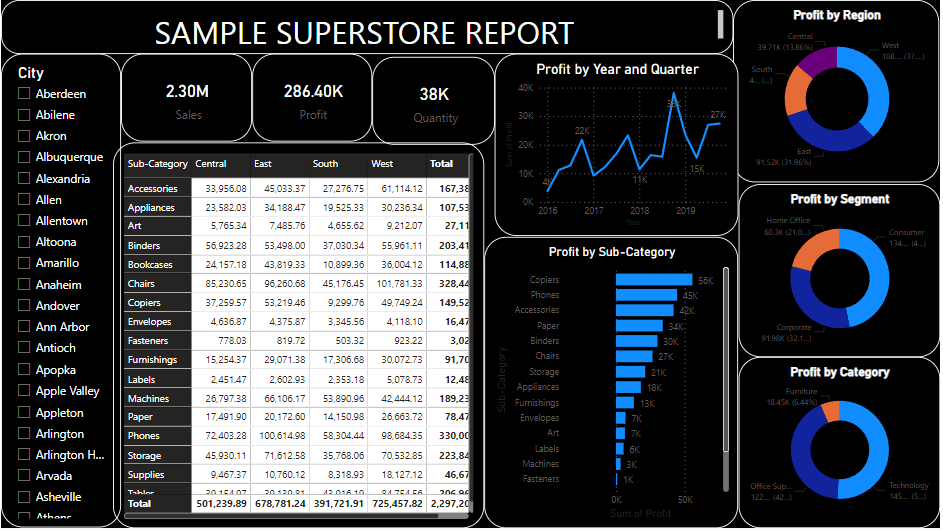

This screenshot's page, from the dashboard's own definition file:
{"tool":"powerbi","page":{"name":"report","canvas":[1280,720],"ordinal":0},"visuals":[{"type":"textbox","box":[0,0,998.7,73.6],"z":0},{"type":"donutChart","title":"Profit by Category","fields":{"Category":["Orders.Category"],"Y":["Sum(Orders.Profit)"]},"box":[1005.7,486.6,274.4,233.4],"z":1000},{"type":"donutChart","title":"Profit by Segment","fields":{"Y":["Sum(Orders.Profit)"],"Category":["Orders.Segment"]},"box":[1005.7,250.4,274.4,236.2],"z":2000},{"type":"donutChart","title":" Profit by Region","fields":{"Y":["Sum(Orders.Profit)"],"Category":["Orders.Region"]},"box":[998.7,0,281.5,249],"z":3000},{"type":"lineChart","title":"Profit by Year and Quarter","fields":{"Y":["Sum(Orders.Profit)"],"Category":["Orders.Order Date.Variation.Date Hierarchy.Year","Orders.Order Date.Variation.Date Hierarchy.Quarter"]},"box":[673.3,73.6,332.4,249],"z":4000},{"type":"clusteredBarChart","title":"Profit by Sub-Category","fields":{"Category":["Orders.Sub-Category"],"Y":["Sum(Orders.Profit)"]},"box":[659.2,322.5,346.6,397.5],"z":5000},{"type":"slicer","fields":{"Values":["Orders.City"]},"box":[0,73.6,164.1,646.4],"z":6000},{"type":"card","fields":{"Values":["Sum(Orders.Sales)"]},"box":[164.1,73.6,178.2,120.2],"z":7000},{"type":"card","fields":{"Values":["Sum(Orders.Quantity)"]},"box":[506.4,77.8,166.9,120.2],"z":8000},{"type":"card","fields":{"Values":["Sum(Orders.Profit)"]},"box":[342.3,73.6,164.1,120.2],"z":9000},{"type":"pivotTable","fields":{"Rows":["Orders.Sub-Category"],"Columns":["Orders.Region"],"Values":["Sum(Orders.Sales)"]},"box":[152.8,193.8,506.4,526.2],"z":10000}]}

Visuals, with their boxes in screenshot pixels (x1, y1, x2, y2), scaled from the page's 1280x720 canvas onto the 943x530 screenshot:
textbox: x1=0 y1=0 x2=736 y2=54
"Profit by Category" donutChart: x1=741 y1=358 x2=942 y2=529
"Profit by Segment" donutChart: x1=741 y1=184 x2=942 y2=358
" Profit by Region" donutChart: x1=736 y1=0 x2=942 y2=183
"Profit by Year and Quarter" lineChart: x1=496 y1=54 x2=741 y2=237
"Profit by Sub-Category" clusteredBarChart: x1=486 y1=237 x2=741 y2=529
slicer - Orders.City: x1=0 y1=54 x2=121 y2=529
card - Sum(Orders.Sales): x1=121 y1=54 x2=252 y2=143
card - Sum(Orders.Quantity): x1=373 y1=57 x2=496 y2=146
card - Sum(Orders.Profit): x1=252 y1=54 x2=373 y2=143
pivotTable - Orders.Sub-Category x Orders.Region: x1=113 y1=143 x2=486 y2=529
